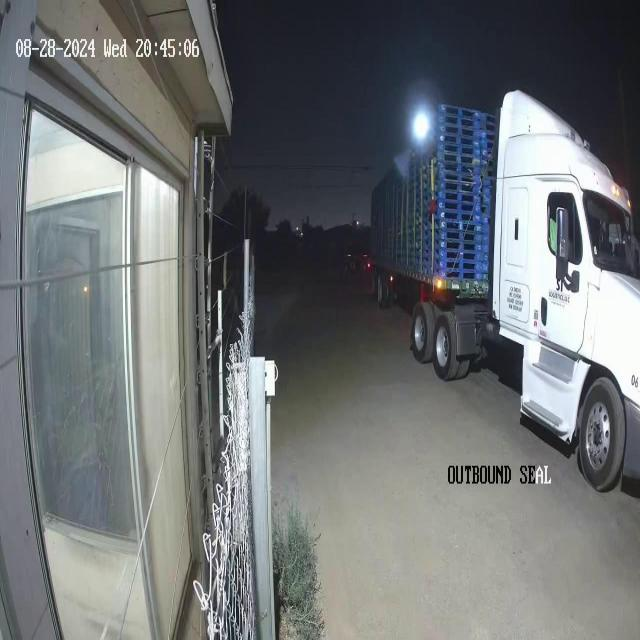TRUCK_IN: (369, 88, 639, 493)
